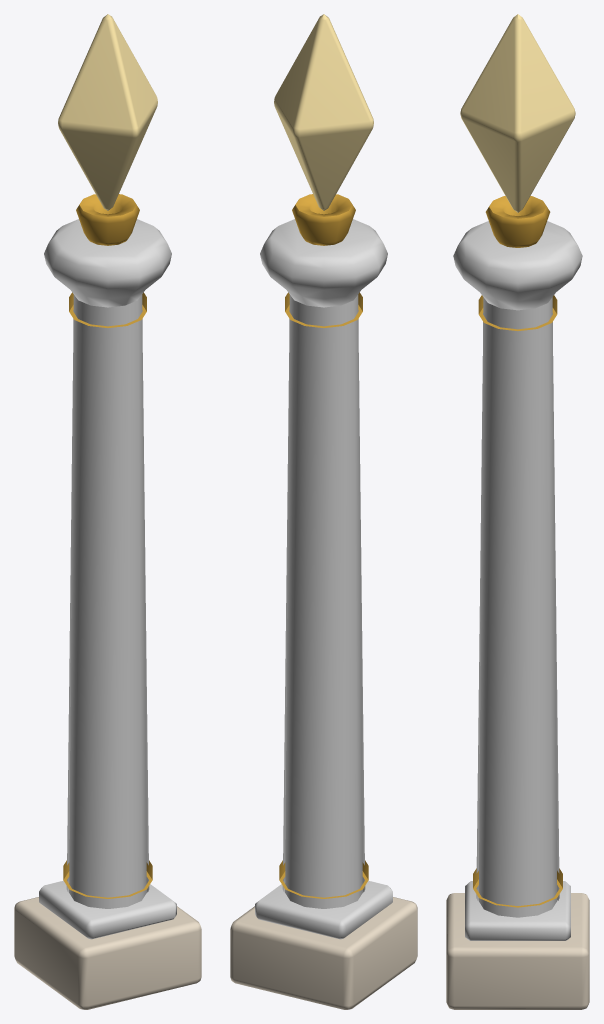
File: plaza_column.glb
3 renders of one model, left to right at view 1: azimuth 30°, elevation 25°; view 2: azimuth 150°, elevation 25°; view 3: azimuth 270°, elevation 25°, orthographic.
Visible parts, largest first — view 1: plaza_column_structure; view 2: plaza_column_structure; view 3: plaza_column_structure.
Boxes of the visible parts, <box> form: plaza_column_structure: <box>14,14,201,1009</box>; plaza_column_structure: <box>230,14,417,1009</box>; plaza_column_structure: <box>446,14,589,1009</box>.
Bounding box in the file's own units: 0.62 × 4.62 × 0.62.
